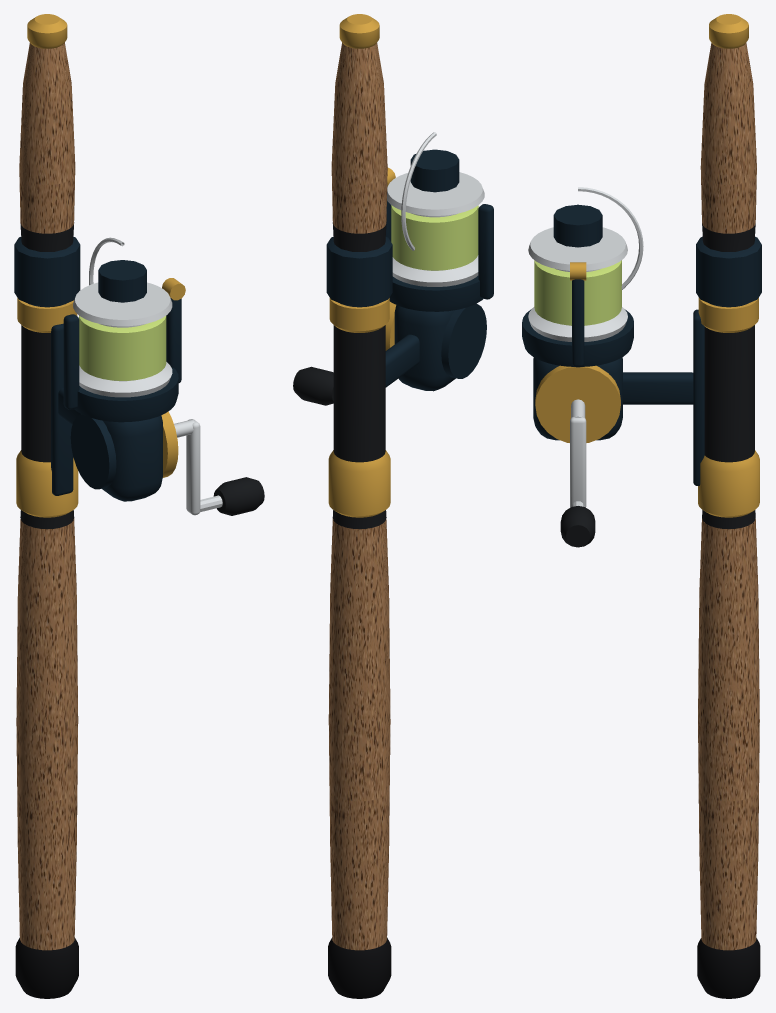
Rendered from rod-handle.glb.
The picture shows the model from 3 angles, left to right: view 1: azimuth 30°, elevation 25°; view 2: azimuth 150°, elevation 25°; view 3: azimuth 270°, elevation 25°; orthographic projection.
Parts seen in each view (by area): view 1: handle, rotor, crank; view 2: handle, rotor, crank; view 3: handle, rotor, crank.
Part boxes in pixels (x1=…): handle: x1=14, y1=14, x2=178, y2=998; rotor: x1=63, y1=237, x2=185, y2=422; crank: x1=174, y1=419, x2=264, y2=515; handle: x1=326, y1=14, x2=486, y2=998; rotor: x1=385, y1=132, x2=493, y2=311; crank: x1=293, y1=366, x2=333, y2=405; handle: x1=528, y1=14, x2=761, y2=998; rotor: x1=522, y1=187, x2=643, y2=367; crank: x1=560, y1=399, x2=595, y2=547.
Bounding box in the file's own units: 0.1095 × 0.525 × 0.1177.
8 materials, 1 textured.
